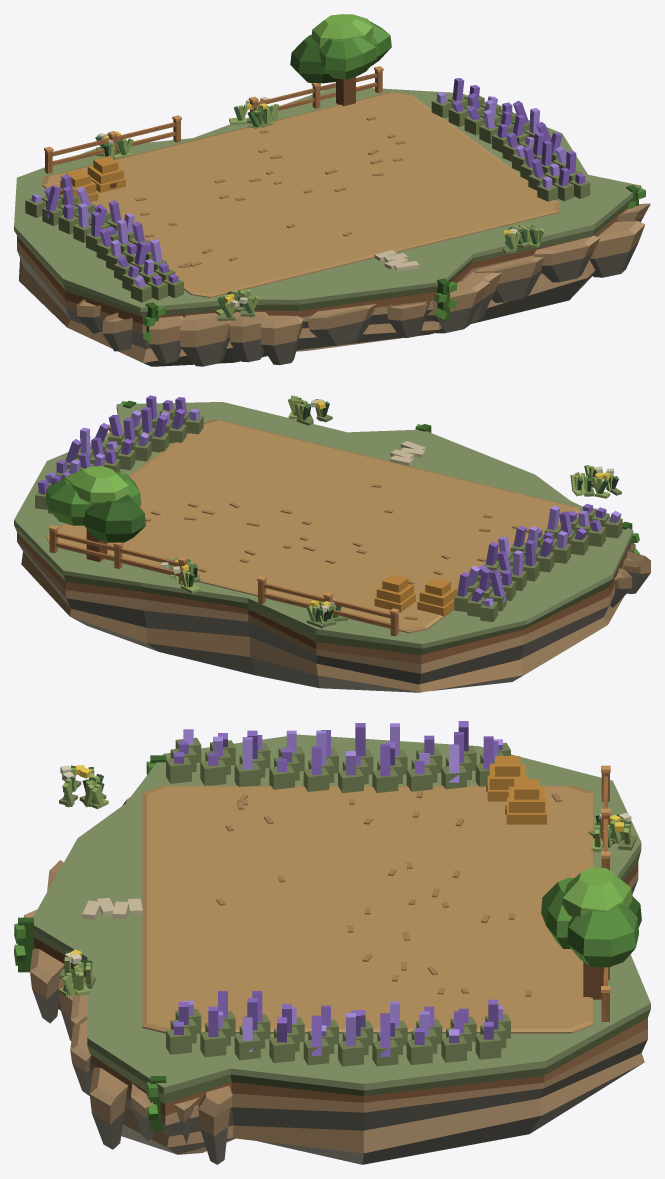
The model's file is island-lavender.glb.
3 renders of one model, top to bottom at view 1: azimuth 30°, elevation 25°; view 2: azimuth 150°, elevation 25°; view 3: azimuth 270°, elevation 25°, orthographic. The views are drawn at different scales.
Parts seen in each view (by area): view 1: Yard, Island, Weathered outcrop.012, Weathered outcrop.003, Weathered outcrop.009, Crown.002, Weathered outcrop.004, Weathered outcrop.005, Weathered outcrop.010, Weathered outcrop.007, Weathered outcrop.011, Crown.003 (+10 smaller); view 2: Island, Yard, Crown, Crown.003, Crown.001, Weathered outcrop.014, FenceRail.001, FenceRail.003, FenceRail.002, FenceRail, Weathered outcrop.015, Bee skep.001 (+1 smaller); view 3: Yard, Island, Crown.001, Crown.003, Weathered outcrop.003, Weathered outcrop, Weathered outcrop.007, Crown.002, Weathered outcrop.004, Weathered outcrop.002, Bee skep.001, Trunk.
Boxes of the visible parts, x1,y1,x2,y2 form: Yard: (42, 92, 559, 297); Island: (14, 87, 641, 366); Weathered outcrop.012: (179, 313, 230, 366); Weathered outcrop.003: (589, 221, 645, 277); Weathered outcrop.009: (307, 304, 376, 346); Crown.002: (319, 36, 377, 79); Weathered outcrop.004: (534, 235, 600, 282); Weathered outcrop.005: (475, 255, 543, 302); Weathered outcrop.010: (260, 315, 303, 365); Weathered outcrop.007: (427, 280, 489, 333); Weathered outcrop.011: (230, 312, 268, 362); Crown.003: (311, 14, 373, 47); Island: (14, 402, 633, 692); Yard: (45, 419, 579, 633); Crown: (82, 494, 145, 542); Crown.003: (64, 466, 129, 505); Crown.001: (45, 478, 91, 525); Weathered outcrop.014: (623, 551, 650, 593); FenceRail.001: (263, 583, 390, 618); FenceRail.003: (55, 532, 178, 566); FenceRail.002: (55, 542, 178, 576); FenceRail: (263, 592, 390, 627); Weathered outcrop.015: (610, 568, 632, 607); Bee skep.001: (376, 584, 413, 603); Yard: (142, 785, 592, 1033); Island: (33, 734, 650, 1164); Crown.001: (567, 904, 638, 967); Crown.003: (562, 867, 632, 917); Weathered outcrop.003: (89, 1067, 128, 1149); Weathered outcrop: (198, 1086, 232, 1164); Weathered outcrop.007: (30, 948, 64, 1023); Crown.002: (541, 877, 573, 948); Weathered outcrop.004: (70, 1016, 92, 1095); Weathered outcrop.002: (131, 1083, 153, 1140); Bee skep.001: (508, 786, 544, 812); Trunk: (583, 962, 603, 999).
Bounding box in the file's own units: 8.4 × 2.72 × 6.34.
54 materials, 1 textured.
